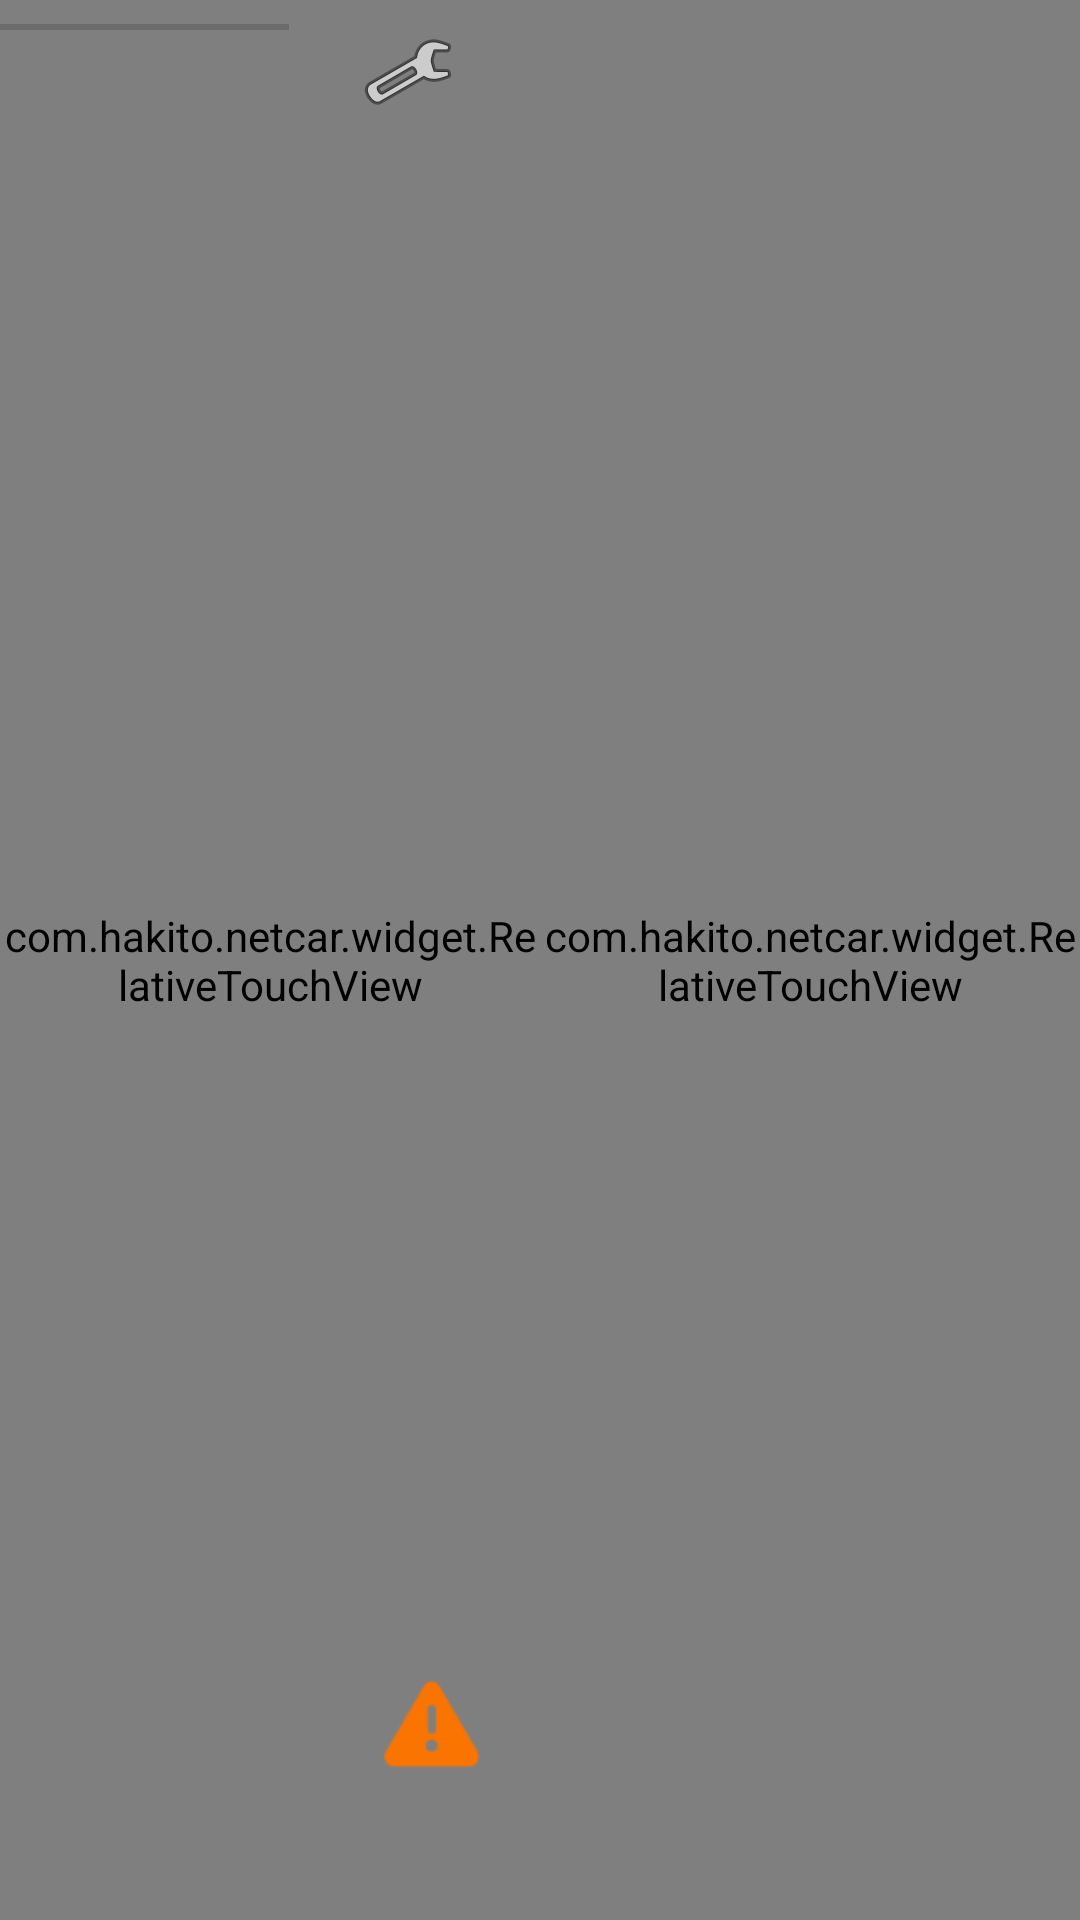

Locate icon controls on the screen. Image size 1080 x 1920, boxes as (x1, y1, x2, y2).
alert: (384, 1681, 480, 1767)
preferences: (365, 39, 451, 105)
